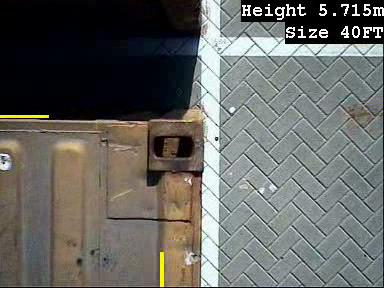groundmarker_2: (174, 46, 264, 101)
